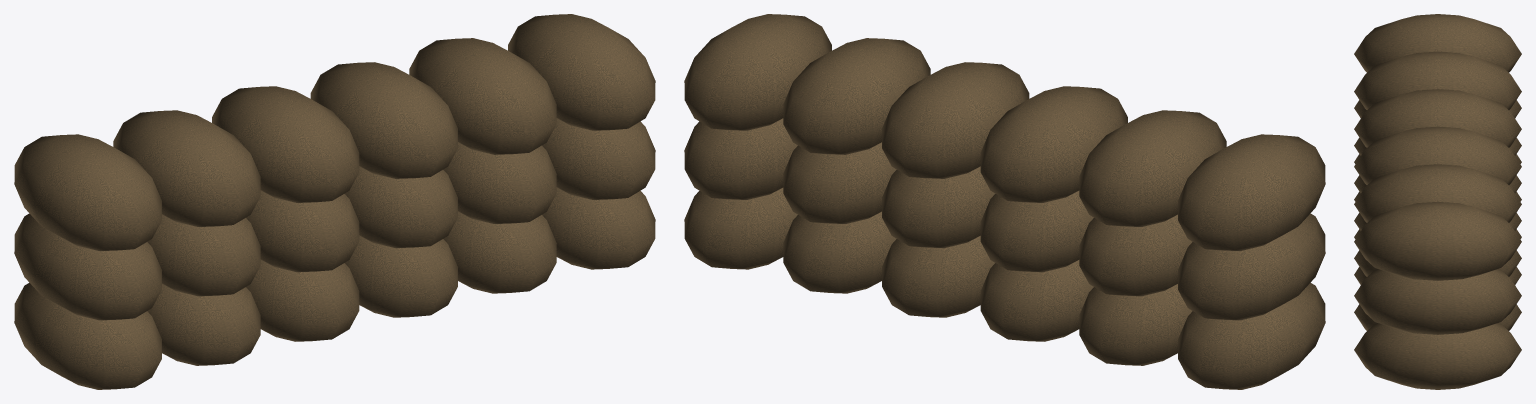
The model's file is sandbag.glb.
3 views of the same model, side by side, from view 1: azimuth 30°, elevation 25°; view 2: azimuth 150°, elevation 25°; view 3: azimuth 270°, elevation 25° (orthographic). The views are drawn at different scales.
Visible parts, largest first — view 1: LOD0; view 2: LOD0; view 3: LOD0.
Boxes of the visible parts, x1,y1,x2,y2 form: LOD0: (14, 14, 655, 389); LOD0: (684, 14, 1325, 389); LOD0: (1354, 14, 1521, 389).
Size of the model in its own units: 2 by 0.72 by 0.62.
Materials: 1 (1 with a texture image).
